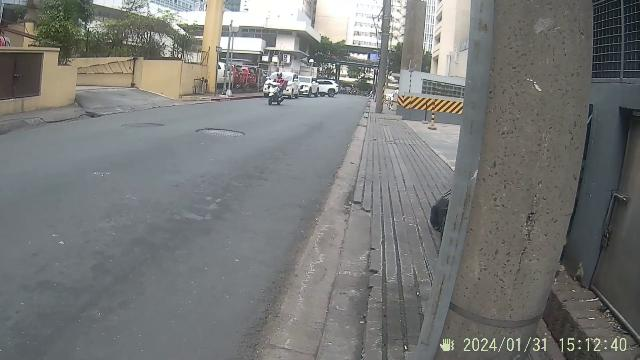lamp_post: (228, 17, 240, 99)
utility_post: (450, 0, 594, 338), (372, 0, 392, 112)
